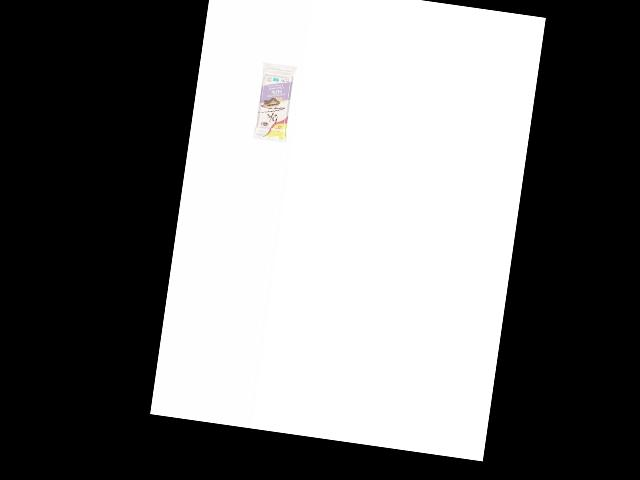chocolate: (249, 60, 298, 145)
